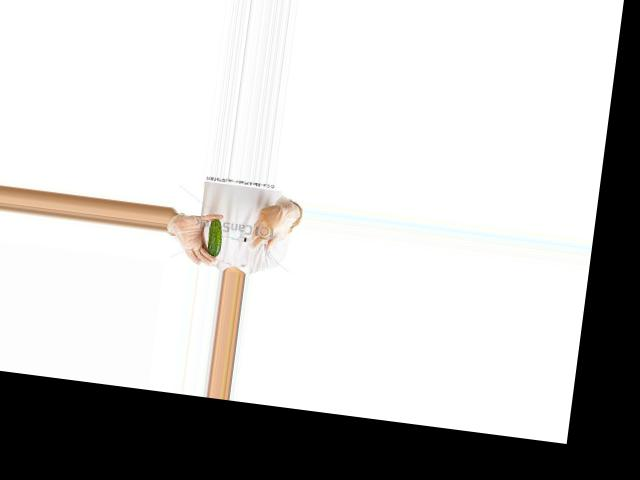cucumber: (205, 216, 223, 257)
